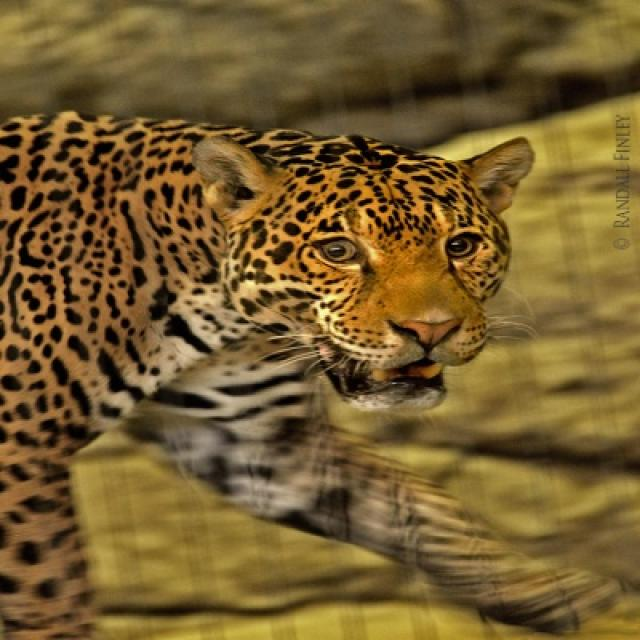Jaguar: (0, 112, 536, 638)
